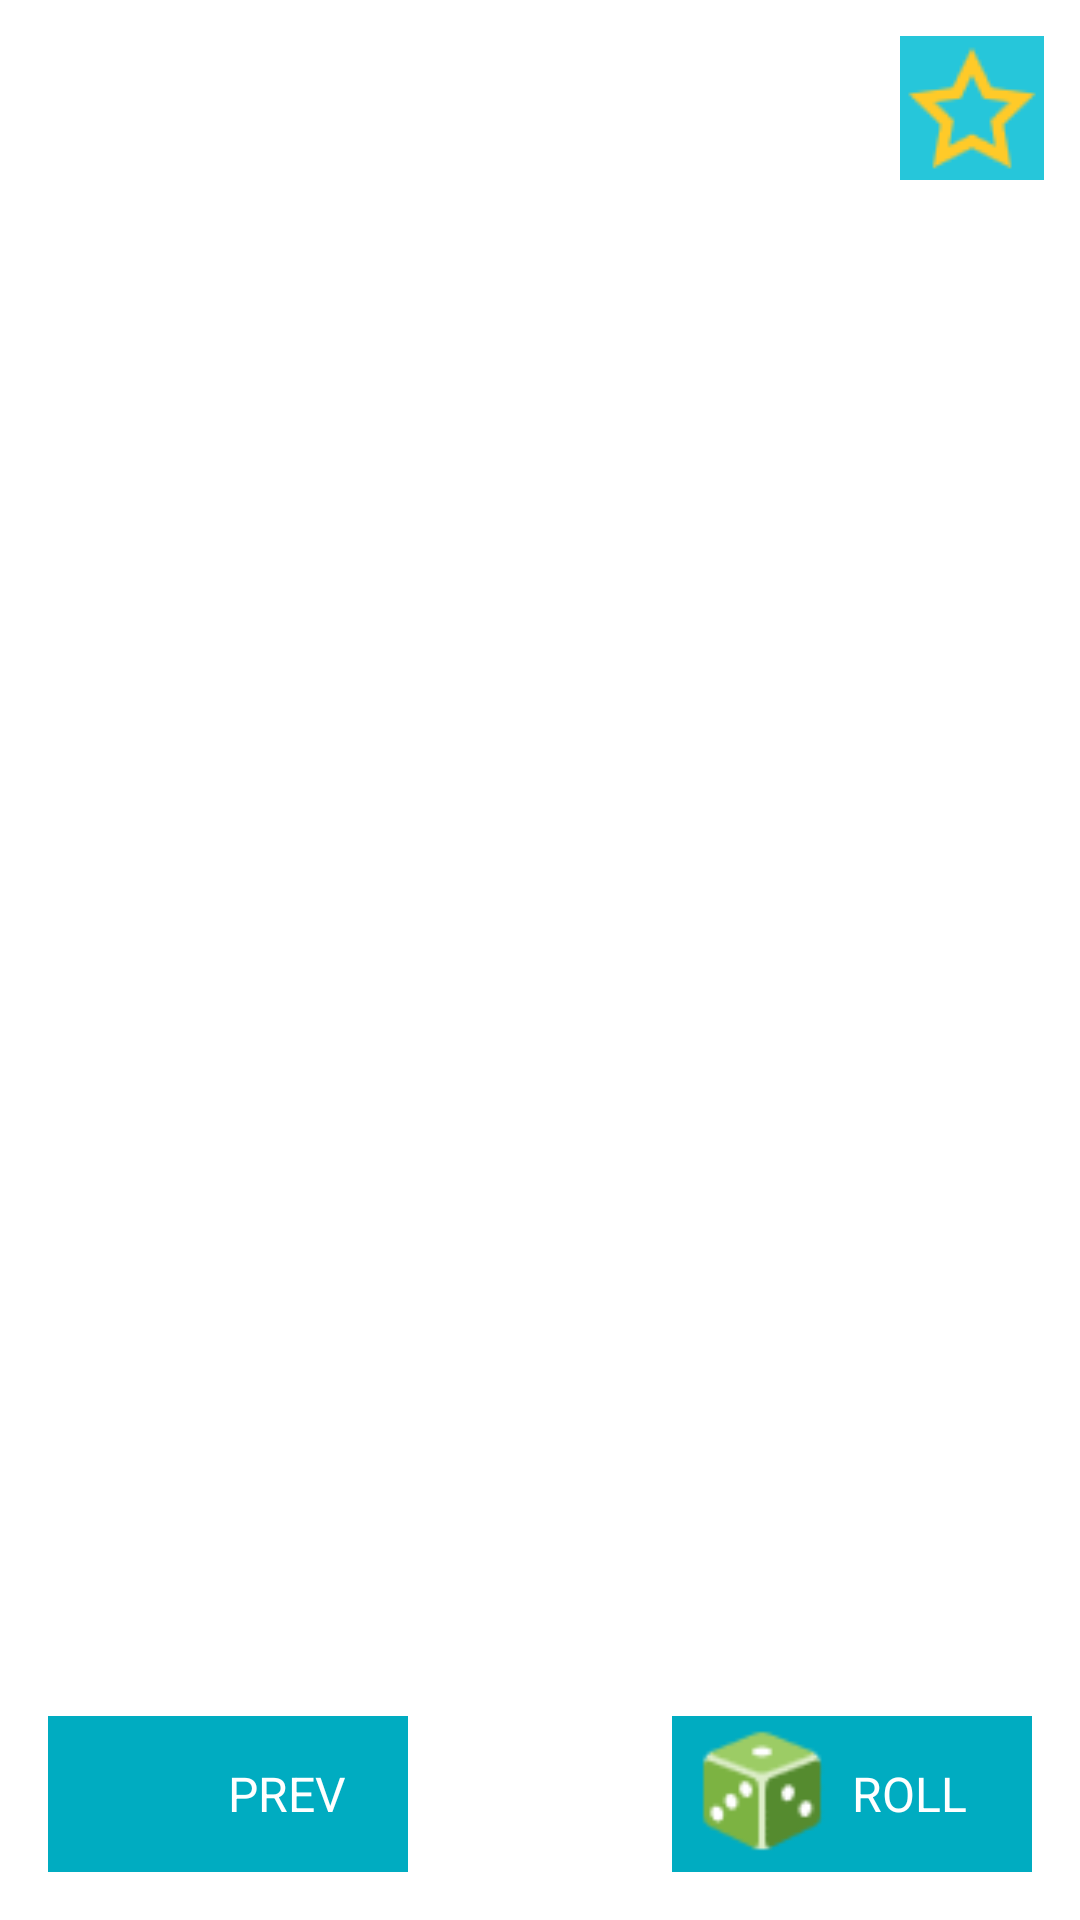

Where icons sit on this 1080px×1920px app screen, as box(x1, y1, x2, y2):
random: box(672, 1716, 852, 1872)
